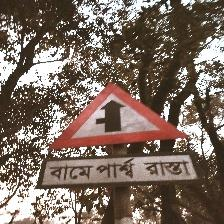Side-road-left: (39, 82, 196, 190)
